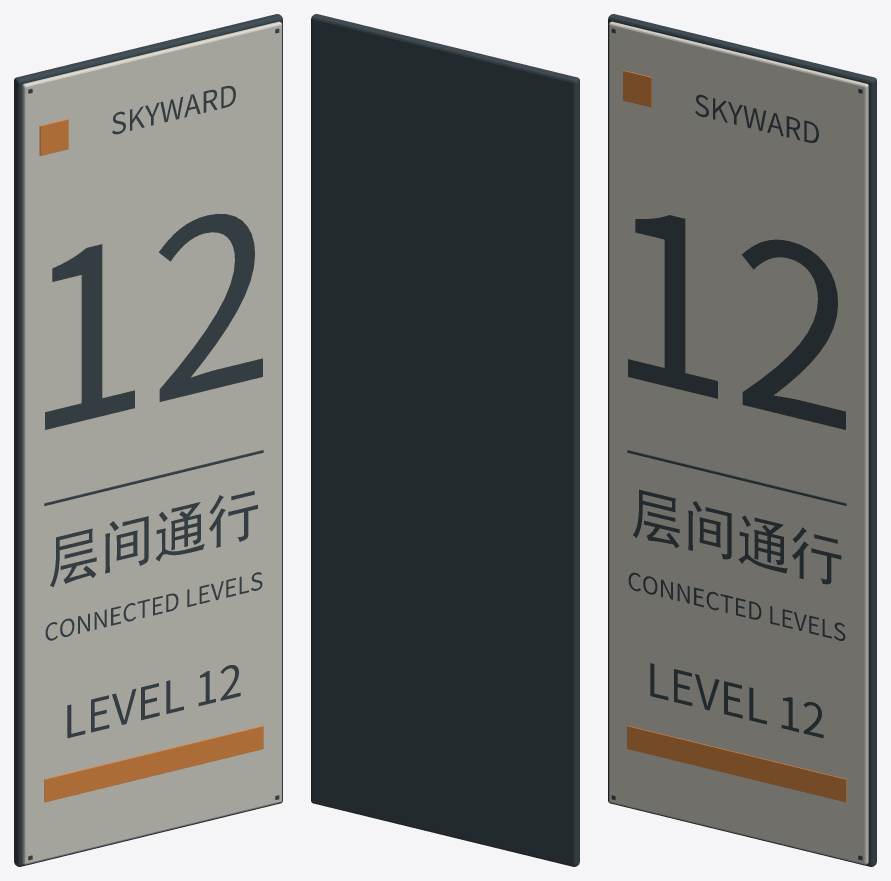
File: WallDistrictB.fbx
The picture shows the model from 3 angles, left to right: view 1: azimuth 30°, elevation 25°; view 2: azimuth 150°, elevation 25°; view 3: azimuth 330°, elevation 25°; orthographic projection.
Visible parts, largest first — view 1: WallDistrictB_SC_Concrete, WallDistrictB_SC_Metal, WallDistrictB_SC_Orange; view 2: WallDistrictB_SC_Metal; view 3: WallDistrictB_SC_Concrete, WallDistrictB_SC_Metal, WallDistrictB_SC_Orange.
Part boxes in pixels (x1,y1,x2,y2): WallDistrictB_SC_Concrete: [22, 21, 281, 864]; WallDistrictB_SC_Metal: [14, 14, 282, 866]; WallDistrictB_SC_Orange: [39, 119, 263, 802]; WallDistrictB_SC_Metal: [311, 14, 579, 866]; WallDistrictB_SC_Concrete: [609, 21, 868, 864]; WallDistrictB_SC_Metal: [608, 14, 876, 866]; WallDistrictB_SC_Orange: [623, 70, 846, 802].
Size of the model in its own units: 2.4 by 6.8 by 0.131.
